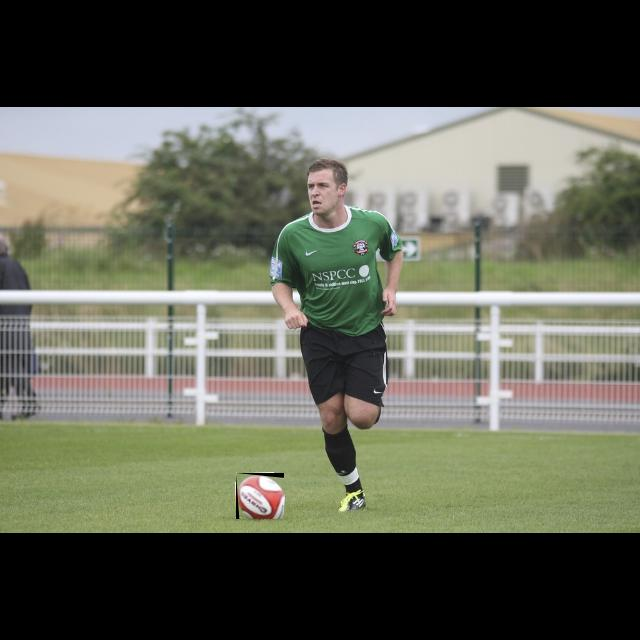Football: (236, 473, 284, 519)
